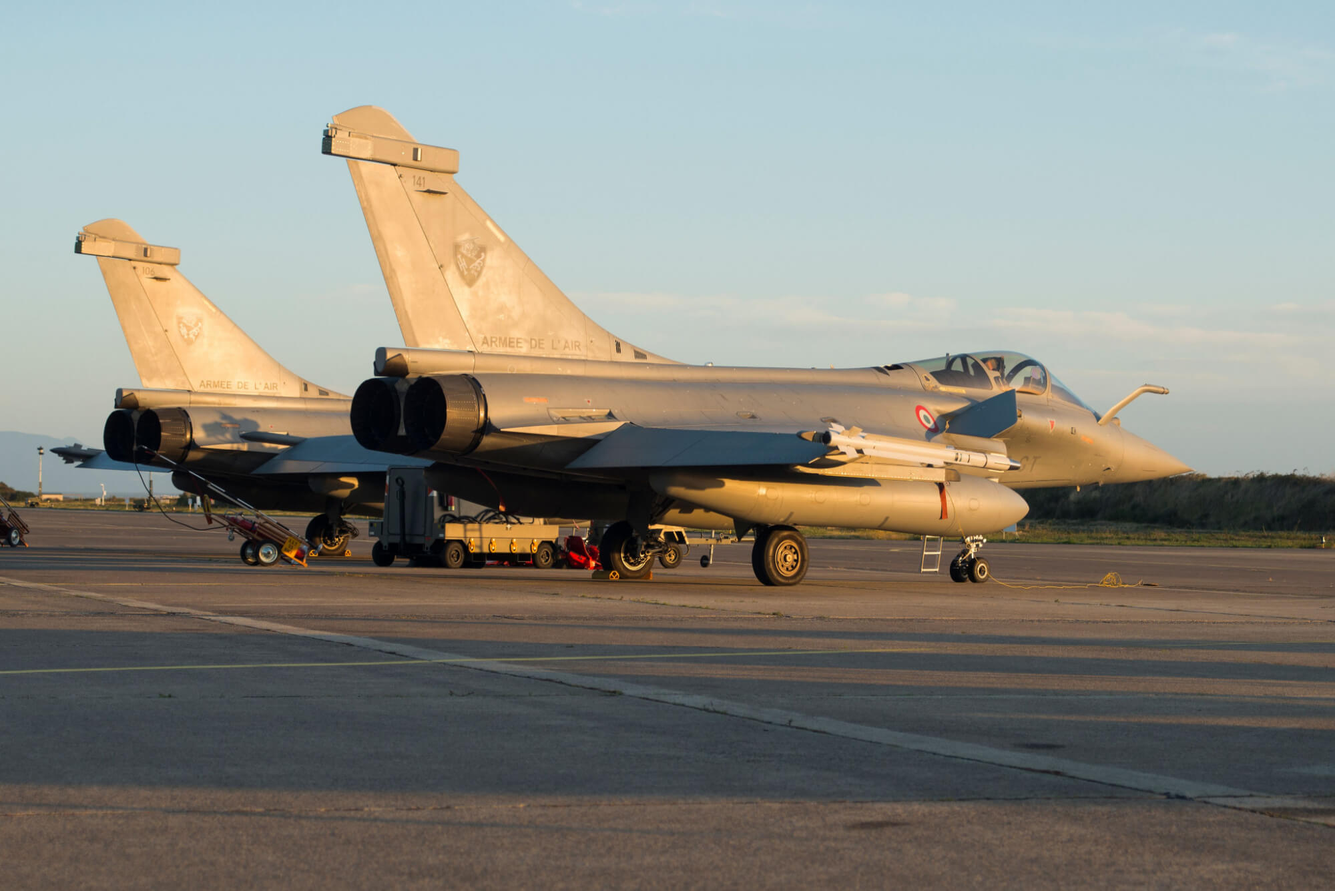Rafale: (313, 96, 1219, 594)
